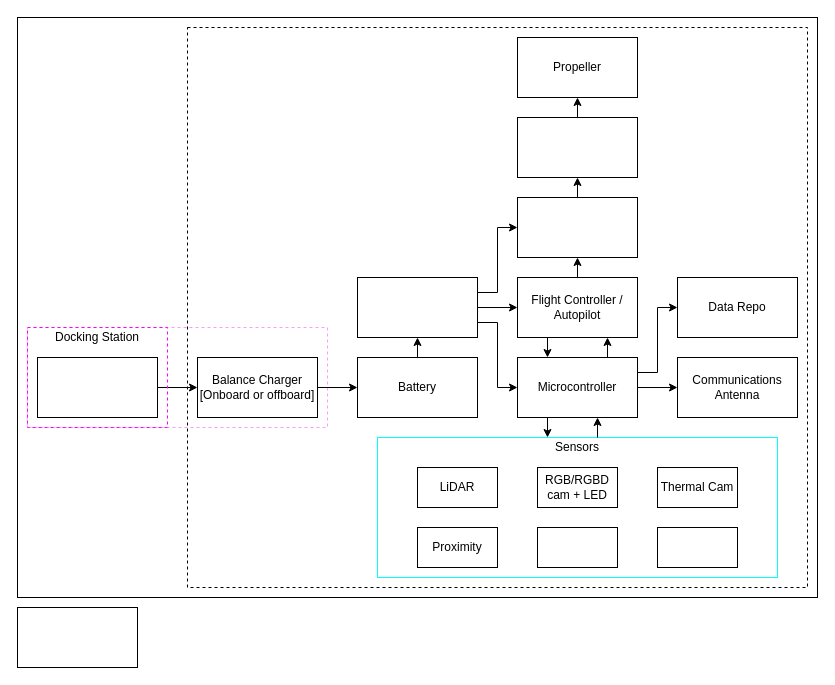
Some shapes in this 835 by 685 pixel diagram are drawn without their labels. Here are the shapes that lost their labels. From the top down, the centre of each, then its label:
At [577,147]: "Motor".
At [577,227]: "Electronic Speed Controller (ESC) [Single or 4in1]".
At [417,307]: "Power Distribution Unit (PDB)".
At [97,387]: "Power Supply".
At [77,637]: "Voltage and Current Sensor (Monitor Battery level)".
